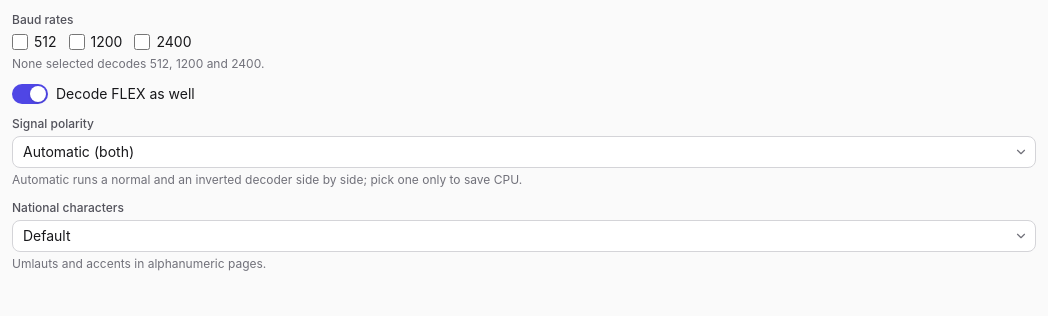
Test: shows the server's refusal
The image size is (1048, 316).
Select "Normal" in the dropdown labelled "Signal polarity" at {"x": 524, "y": 152}, box [12,136,1036,168]
Wait 650 ms
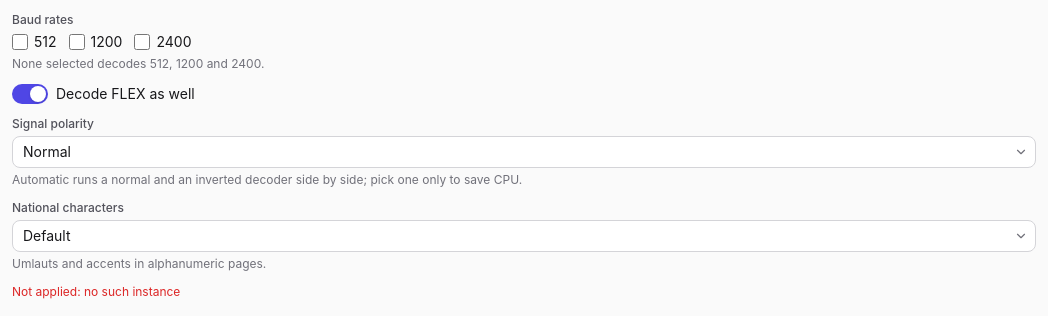
expect the message shows "no such instance": met, box [12,284,180,299]
